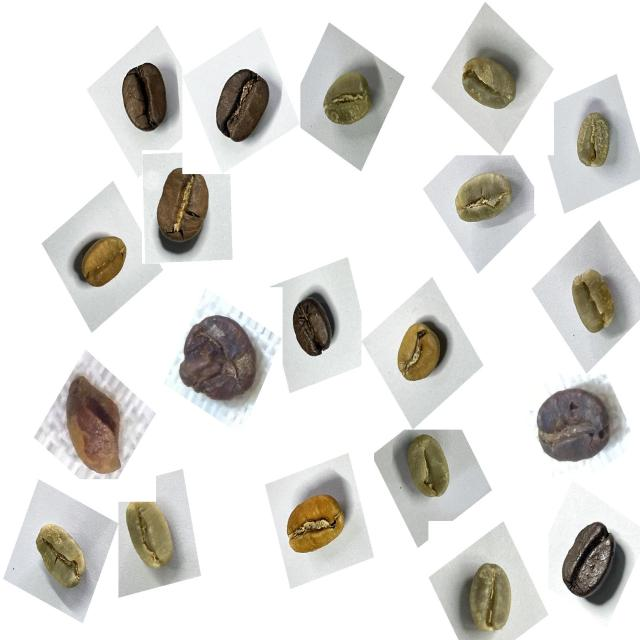bad: (171, 300, 267, 414), (525, 372, 620, 475), (55, 367, 130, 484)
dark: (552, 510, 632, 612)
green: (25, 513, 97, 602), (452, 43, 528, 125), (445, 161, 523, 240), (559, 259, 629, 347), (117, 495, 185, 584), (456, 553, 524, 640), (313, 62, 385, 144), (395, 428, 462, 513), (565, 102, 623, 182)
light: (279, 479, 359, 570), (388, 310, 454, 394), (69, 225, 137, 301)
medium: (144, 163, 221, 258), (205, 61, 278, 153), (108, 59, 178, 136), (282, 284, 345, 367)
